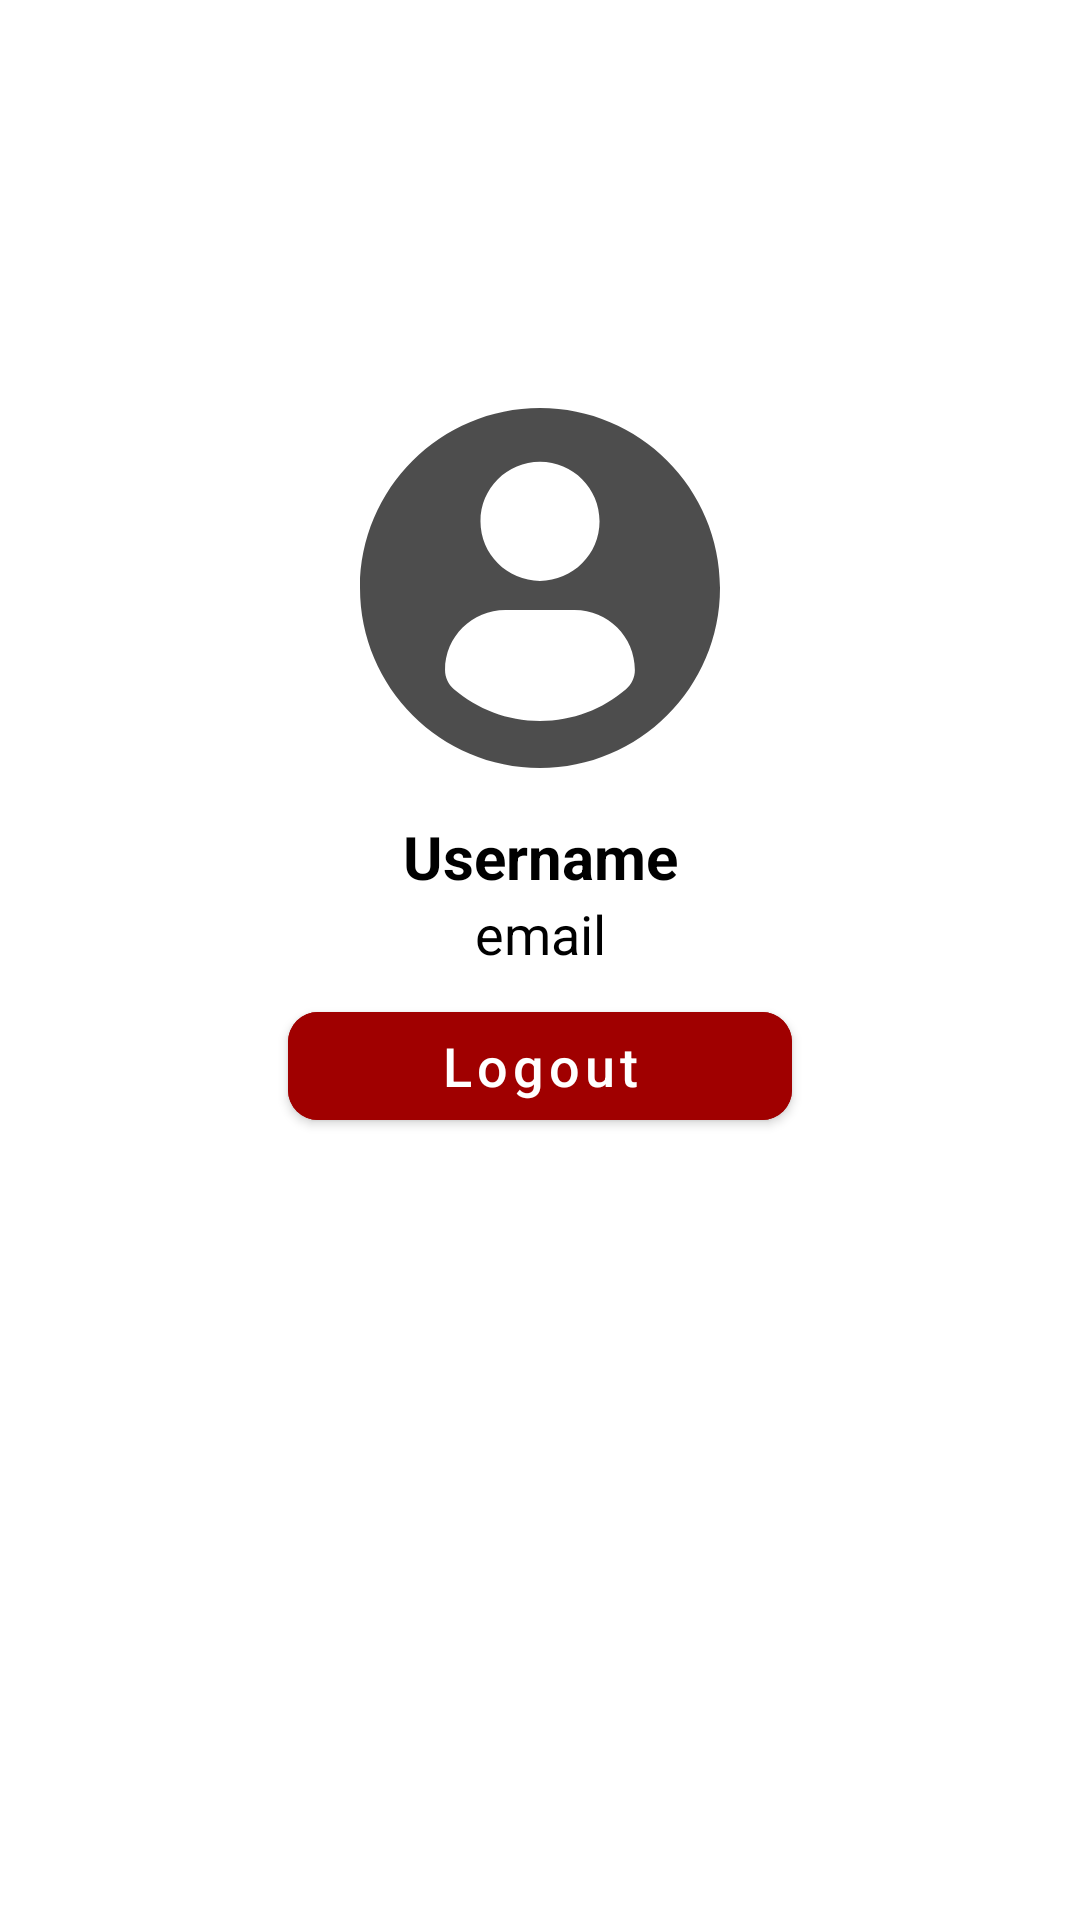

Icon click points for this 1080w x 1920h phone screenshot, format (x=x, y=y):
person: (x=540, y=588)
